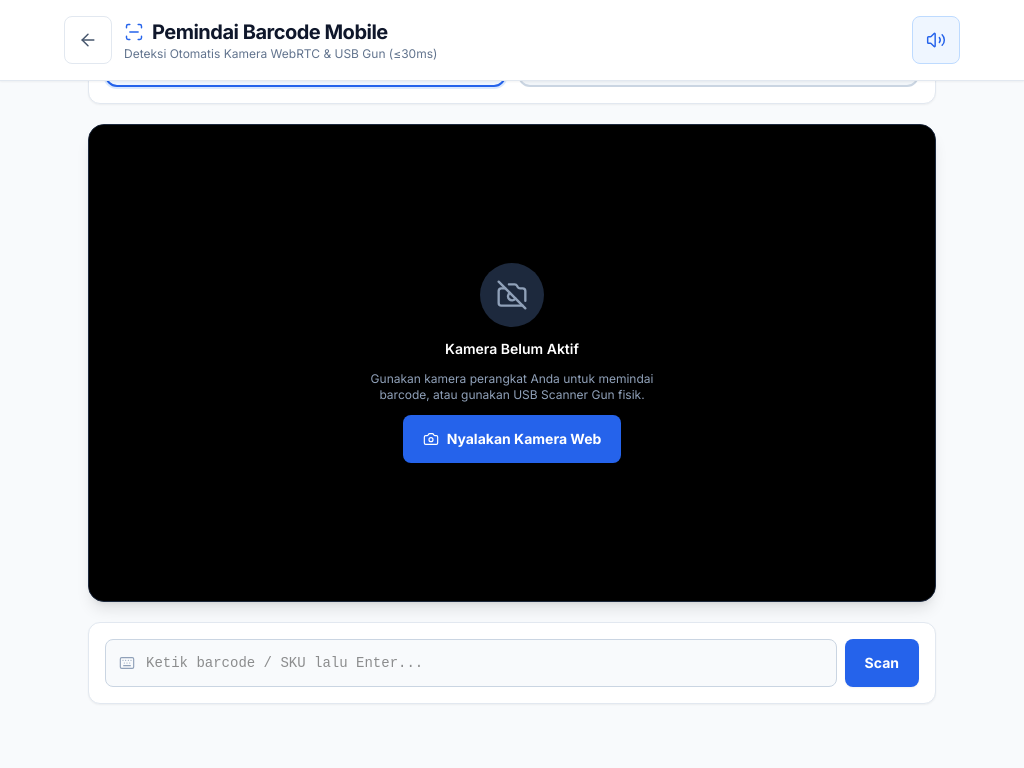
Test case: Scanner PUTAWAY mode uses real backend › server failure is surfaced, not reported as success
(page scrolled)
Step 1. Type "RAK-A-01" into the field with placeholder "Ketik barcode / SKU lalu Enter..." → point(471, 663), box x1=105 y1=639 x2=837 y2=687
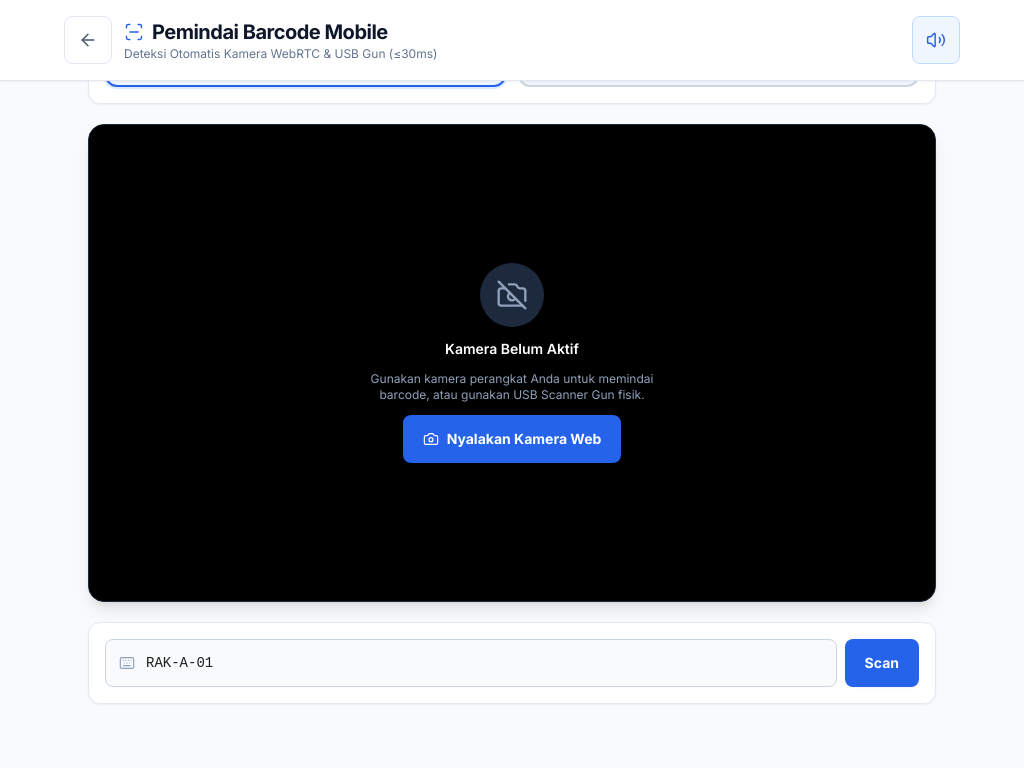
Step 2. Submit the form with placeholder "Ketik barcode", box x1=105 y1=639 x2=919 y2=687
(page scrolled)
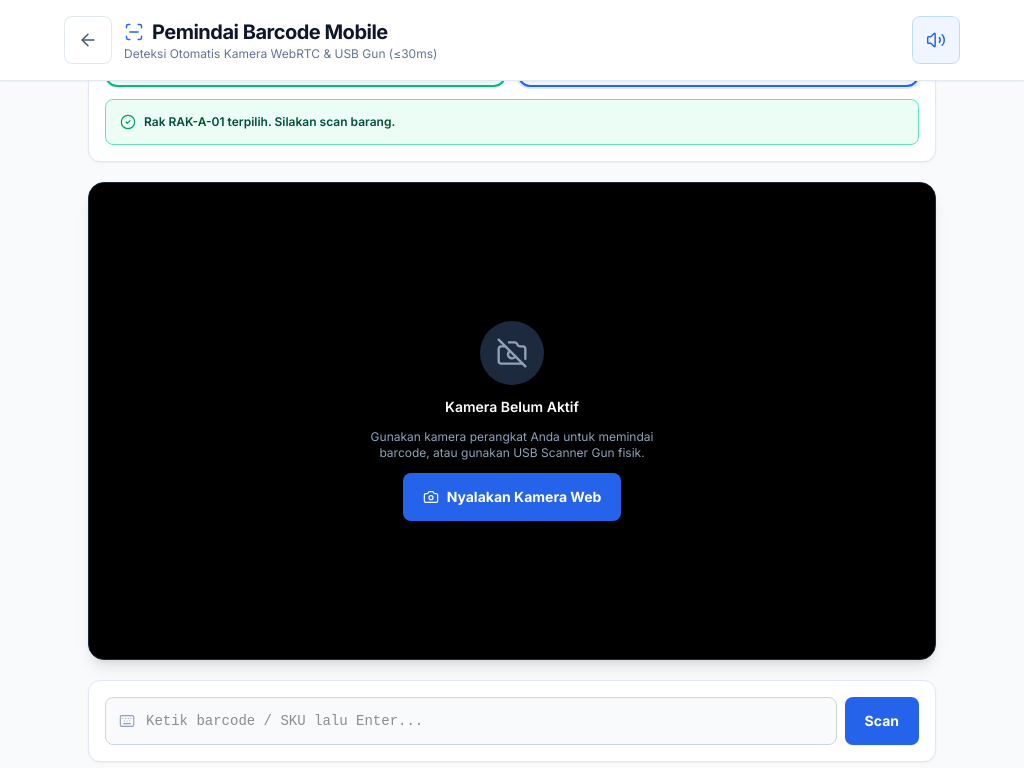
Step 3. Type "BERAS" into the field with placeholder "Ketik barcode / SKU lalu Enter..." → point(471, 721), box x1=105 y1=697 x2=837 y2=745
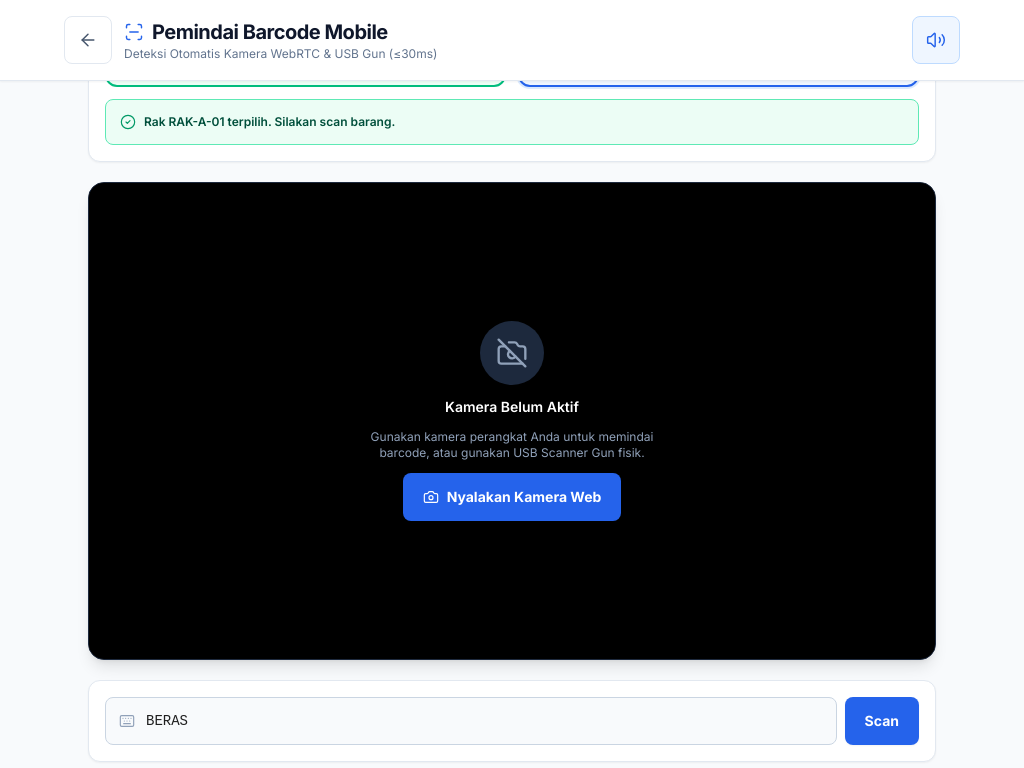
Step 4. Submit the form with placeholder "Ketik barcode", box x1=105 y1=697 x2=919 y2=745
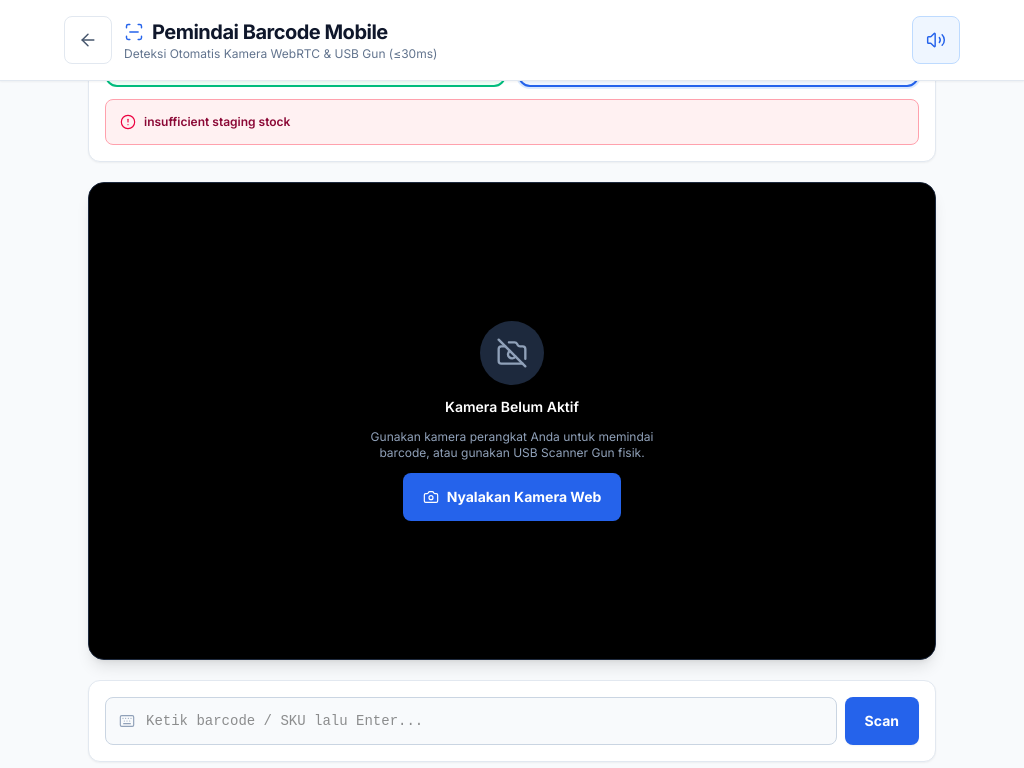
Check: the text "insufficient staging stock" is shown, box x1=144 y1=114 x2=290 y2=130
